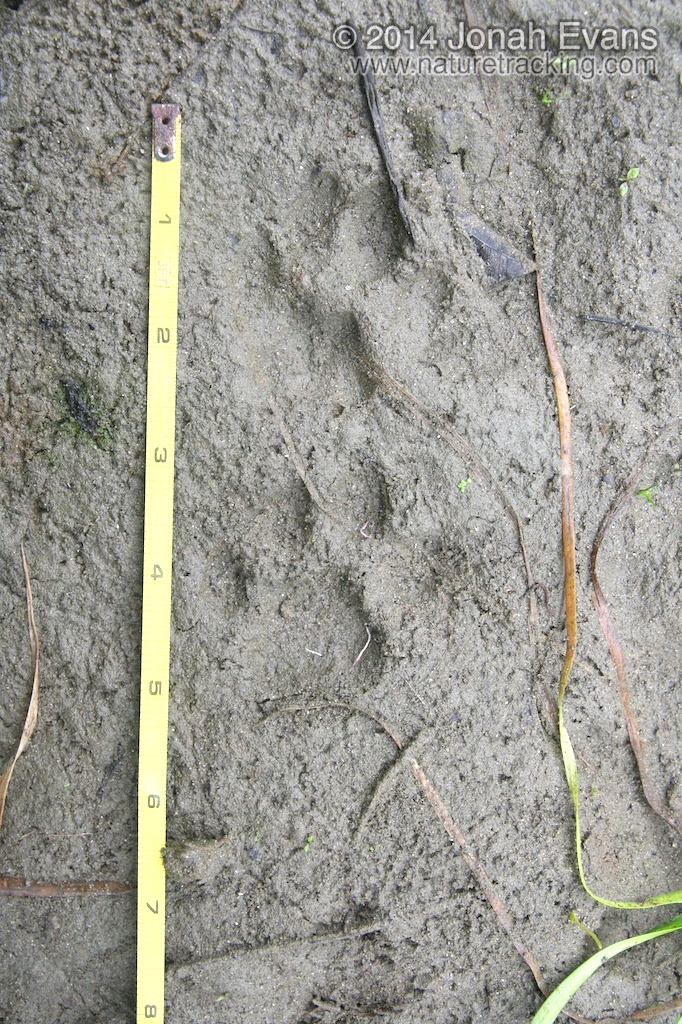lynx: (177, 445, 483, 760), (214, 150, 430, 468)
